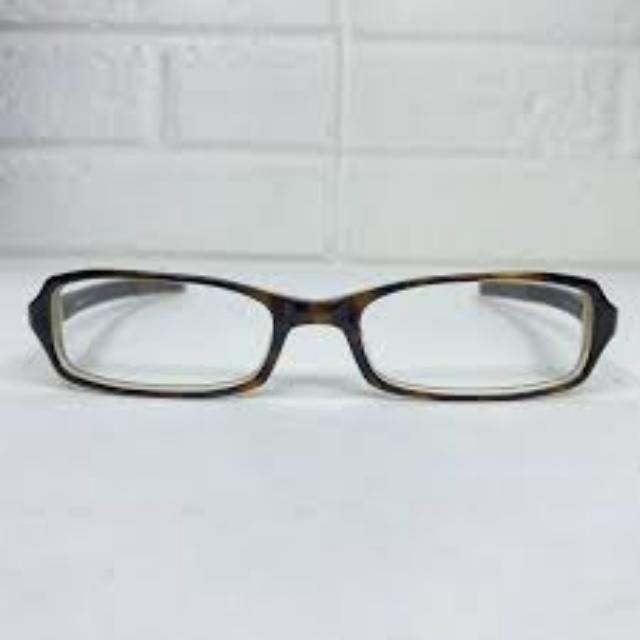mask: (25, 266, 620, 398)
